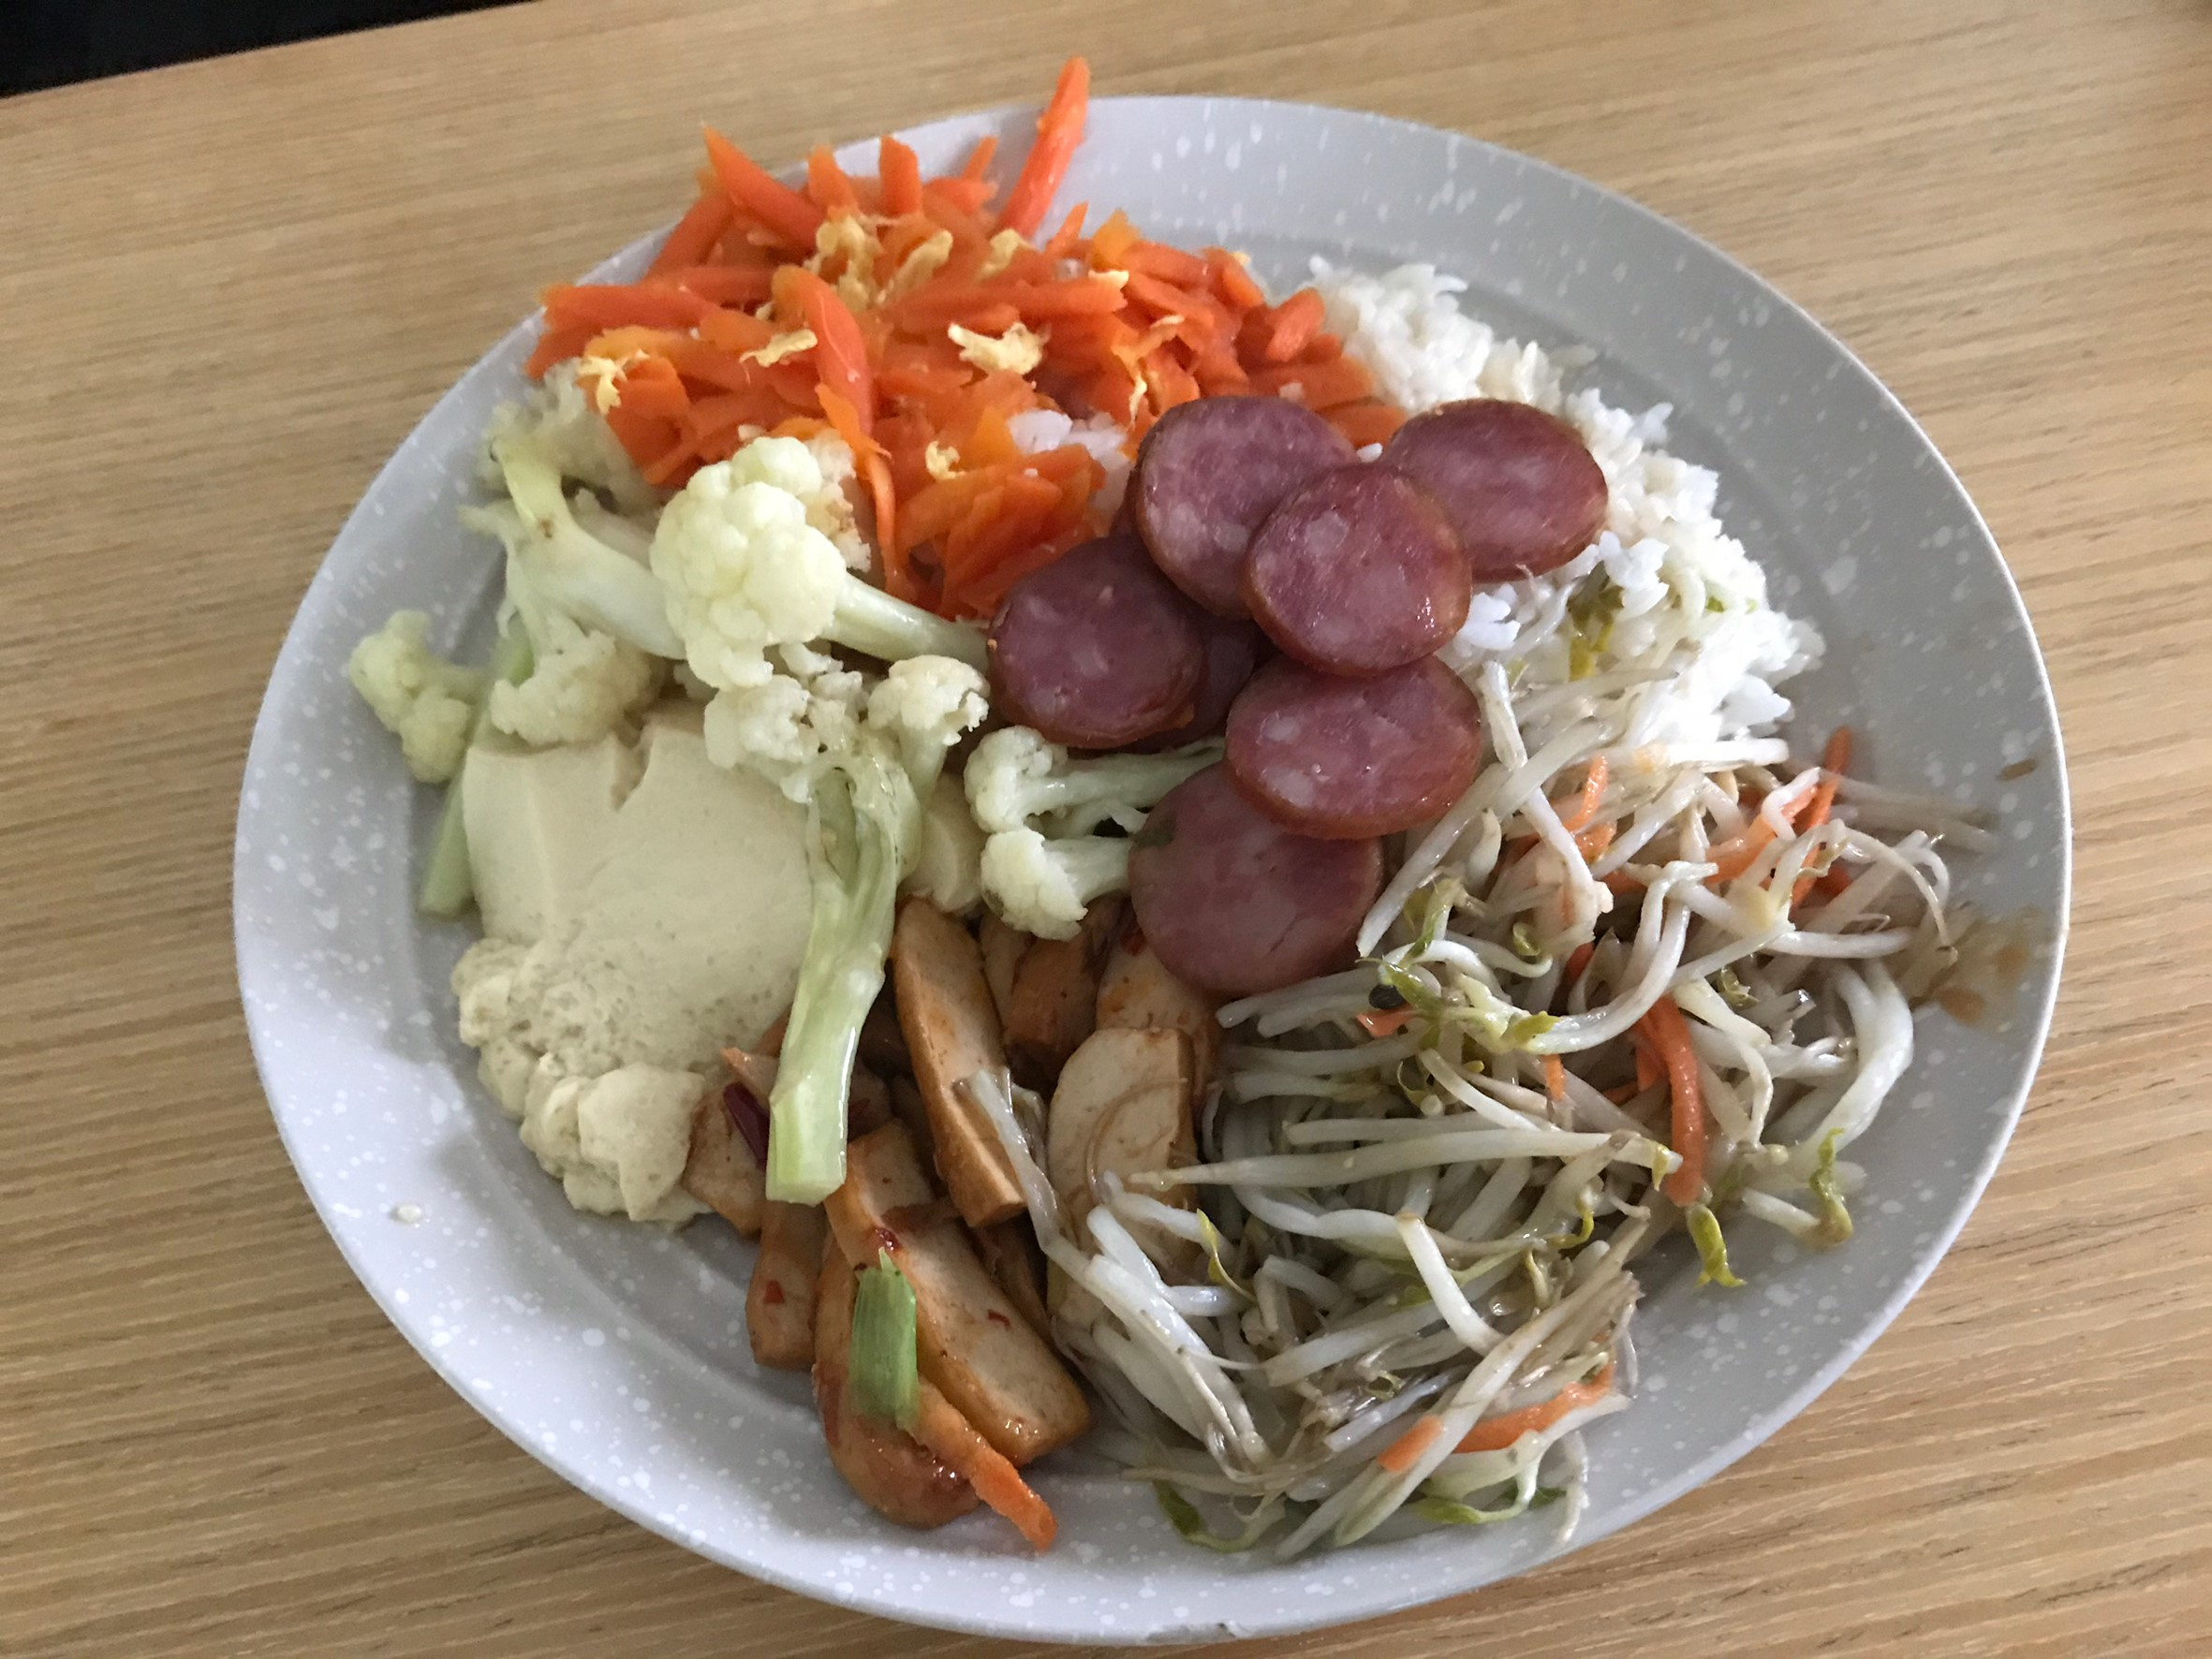carrot_eggs: (535, 150, 1394, 423)
chinese_sausage: (1001, 387, 1609, 992)
mung_bean_sprouts: (1217, 798, 1958, 1549)
rice: (1604, 411, 1837, 760)
